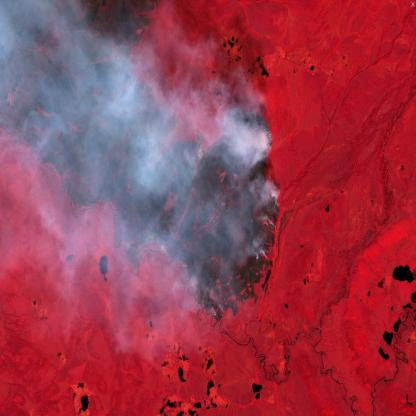fire: (136, 183, 284, 325), (168, 100, 274, 168)
